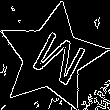M_SW: (19, 24, 84, 91)
